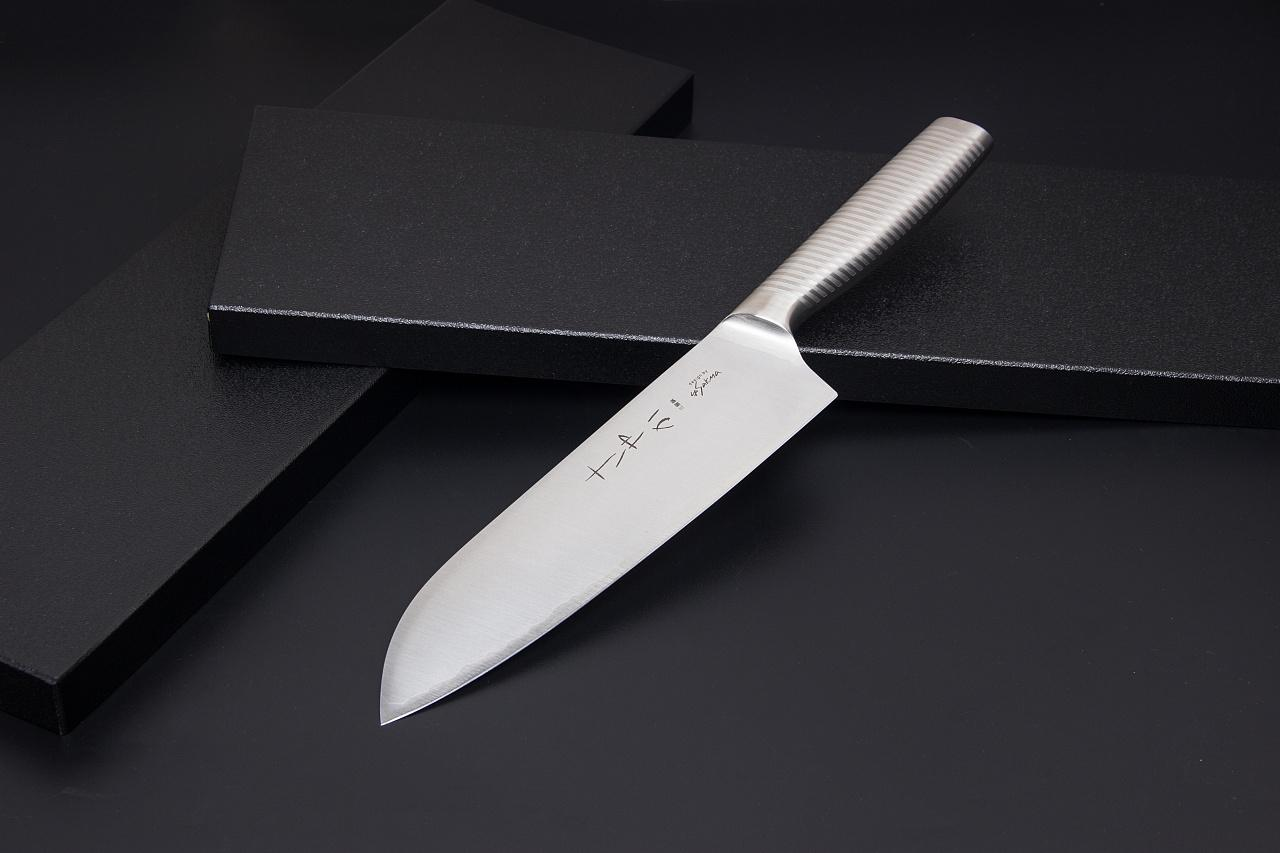knife: (274, 79, 1053, 734)
